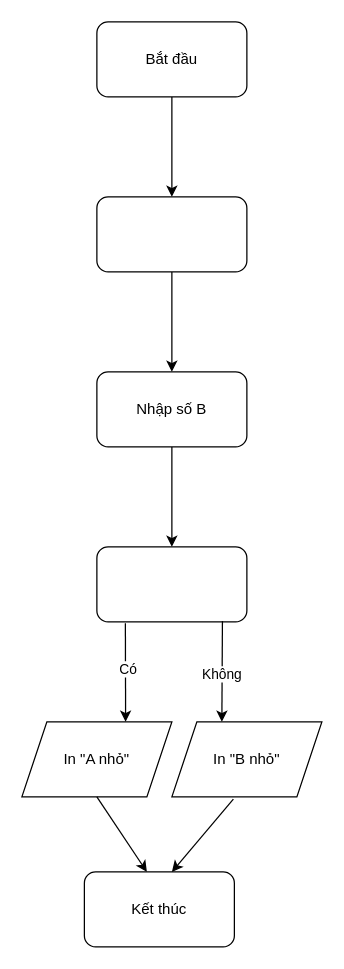
Image size: 344x969. Some labels were removed from this diagram. Here are the shapes that lost their labels. From the top down, the box of each, then its label:
(96, 196, 247, 272): Nhập số A
(96, 546, 247, 622): A<B?
